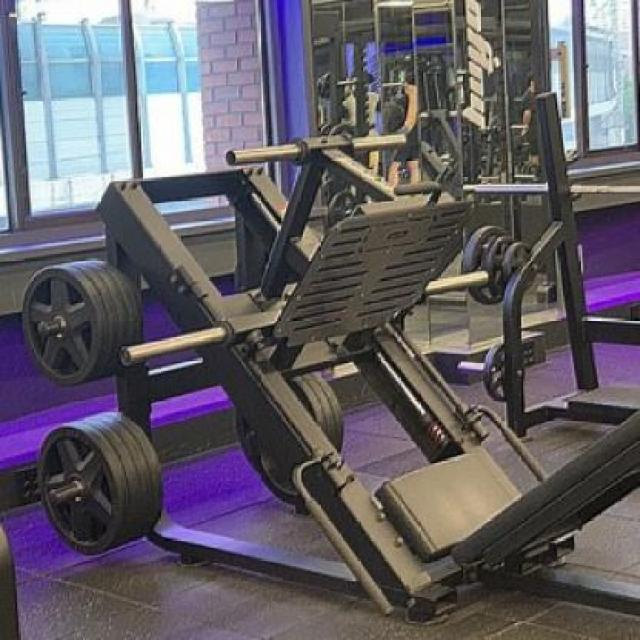leg press: (6, 158, 640, 640)
